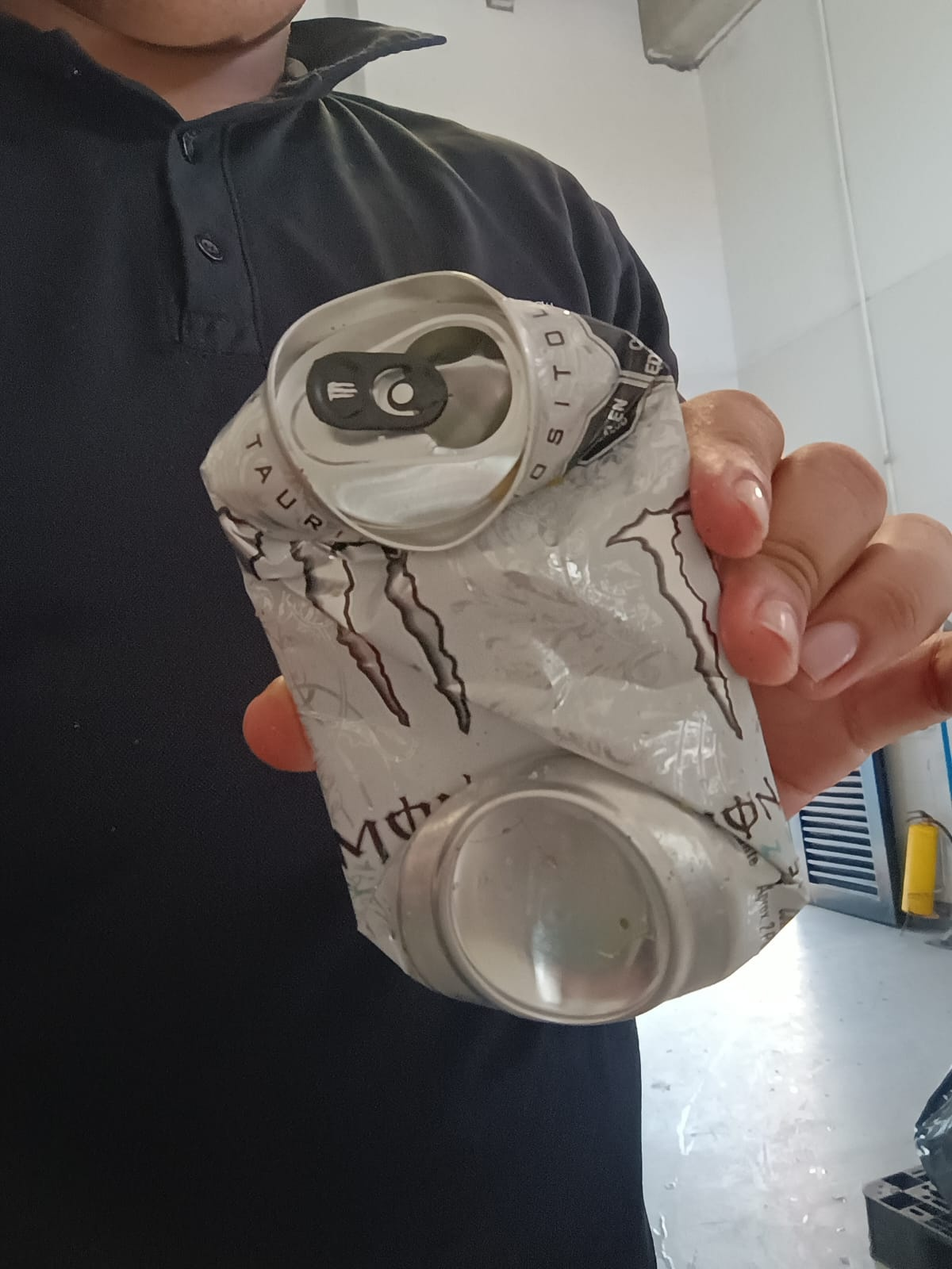Metal: (202, 271, 811, 1019)
